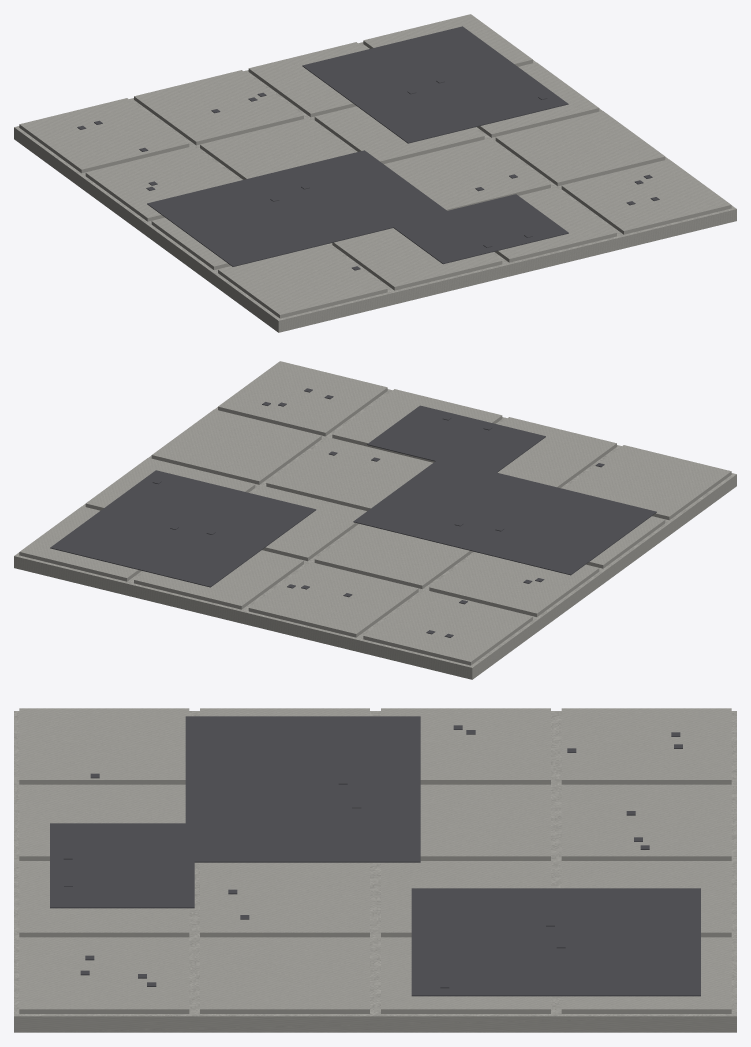
File: forge-floor-slab-sooted-4-m.glb
3 views of the same model, one above another, from view 1: azimuth 30°, elevation 25°; view 2: azimuth 150°, elevation 25°; view 3: azimuth 270°, elevation 25° (orthographic). The views are drawn at different scales.
Parts seen in each view (by area): view 1: blacksmith-forge-and-armoury-forge-floor-slab-sooted; view 2: blacksmith-forge-and-armoury-forge-floor-slab-sooted; view 3: blacksmith-forge-and-armoury-forge-floor-slab-sooted.
Boxes of the visible parts, box(x1,y1,x2,y2) form: blacksmith-forge-and-armoury-forge-floor-slab-sooted: box(14, 14, 736, 332); blacksmith-forge-and-armoury-forge-floor-slab-sooted: box(14, 361, 736, 679); blacksmith-forge-and-armoury-forge-floor-slab-sooted: box(14, 708, 736, 1032).
Size of the model in its own units: 4 by 0.141 by 4.
Materials: 2 (1 with a texture image).
